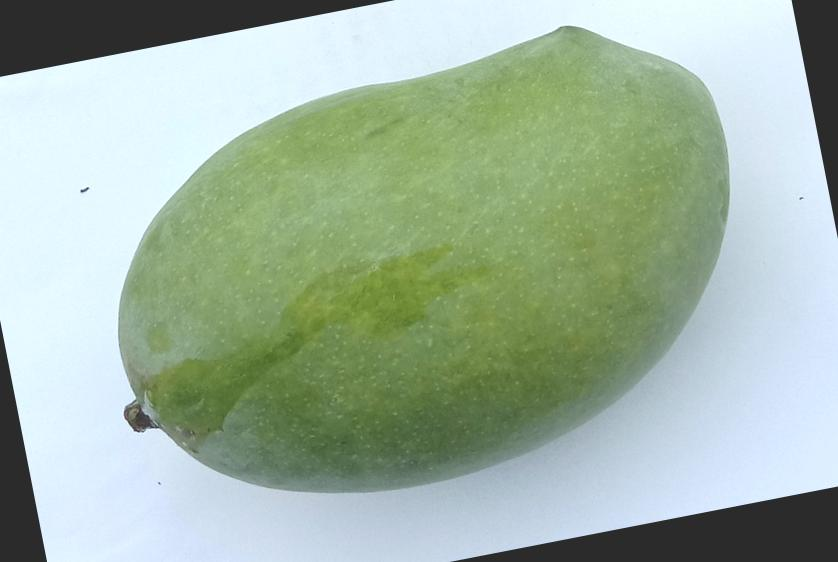Mango Unripe: (22, 0, 820, 562)
